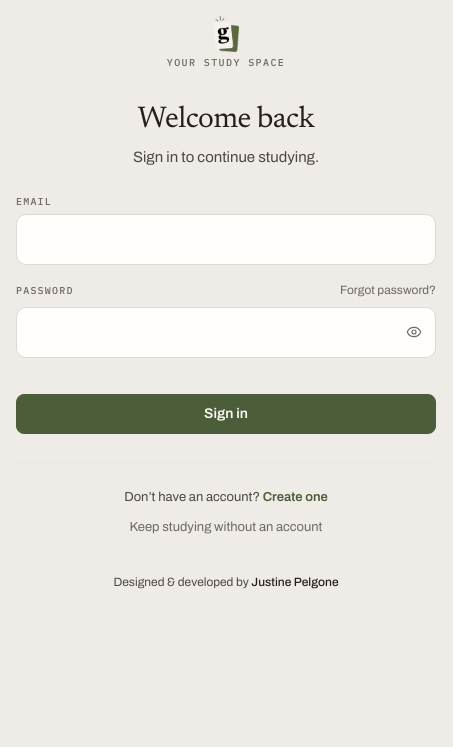
Test: where it appears › carries across to making an account, and to asking for a reset link
Click the button "Create one" at (295, 497), box x1=263 y1=487 x2=328 y2=507
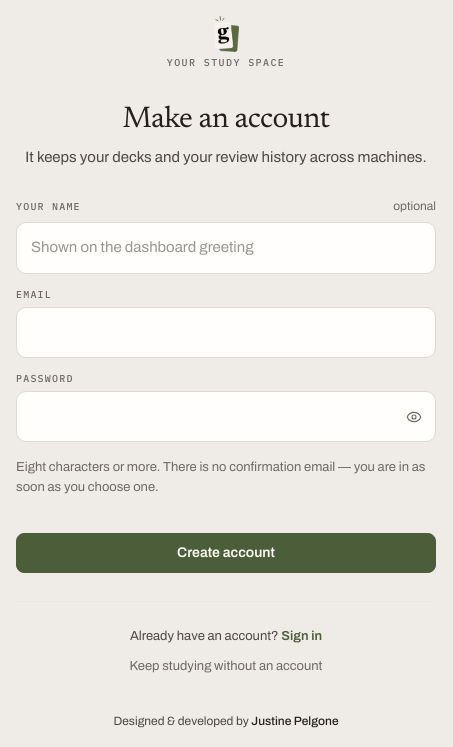
Expected: the text "Designed & developed by Justine Pelgone" is shown, x1=113 y1=712 x2=339 y2=730
Expected: the heading "Make an account" is shown, x1=123 y1=105 x2=329 y2=135
Click the button "Sign in" at (302, 636), box x1=281 y1=626 x2=322 y2=646
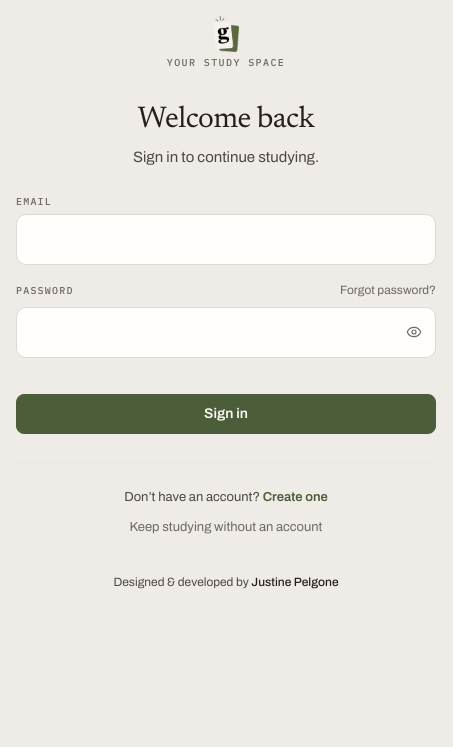
Click the button "Forgot password?" at (388, 290), box x1=340 y1=281 x2=436 y2=300
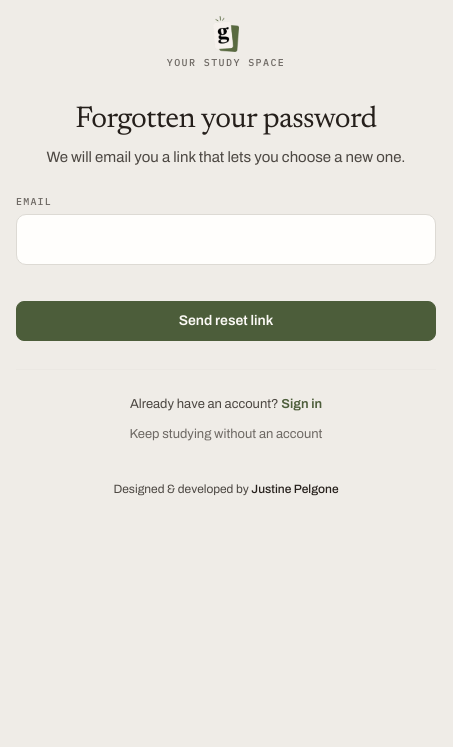
Expected: the text "Designed & developed by Justine Pelgone" is shown, x1=113 y1=480 x2=339 y2=498
Expected: the heading "Forgotten your password" is shown, x1=75 y1=105 x2=377 y2=135
